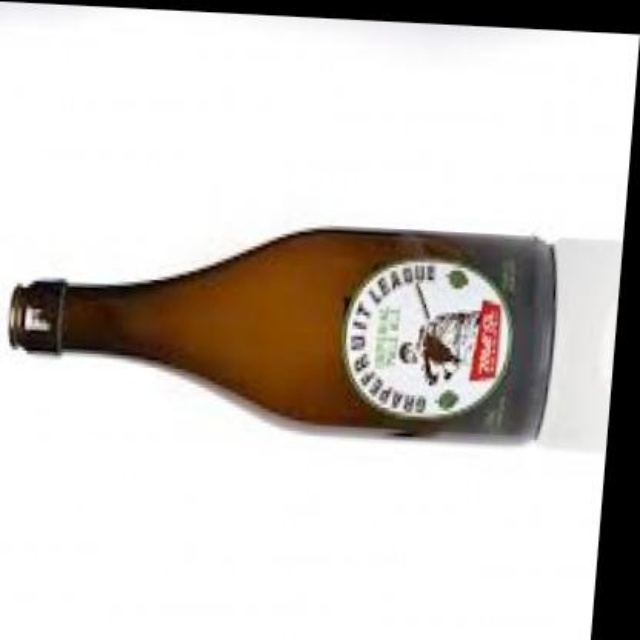trash: (9, 228, 554, 435)
